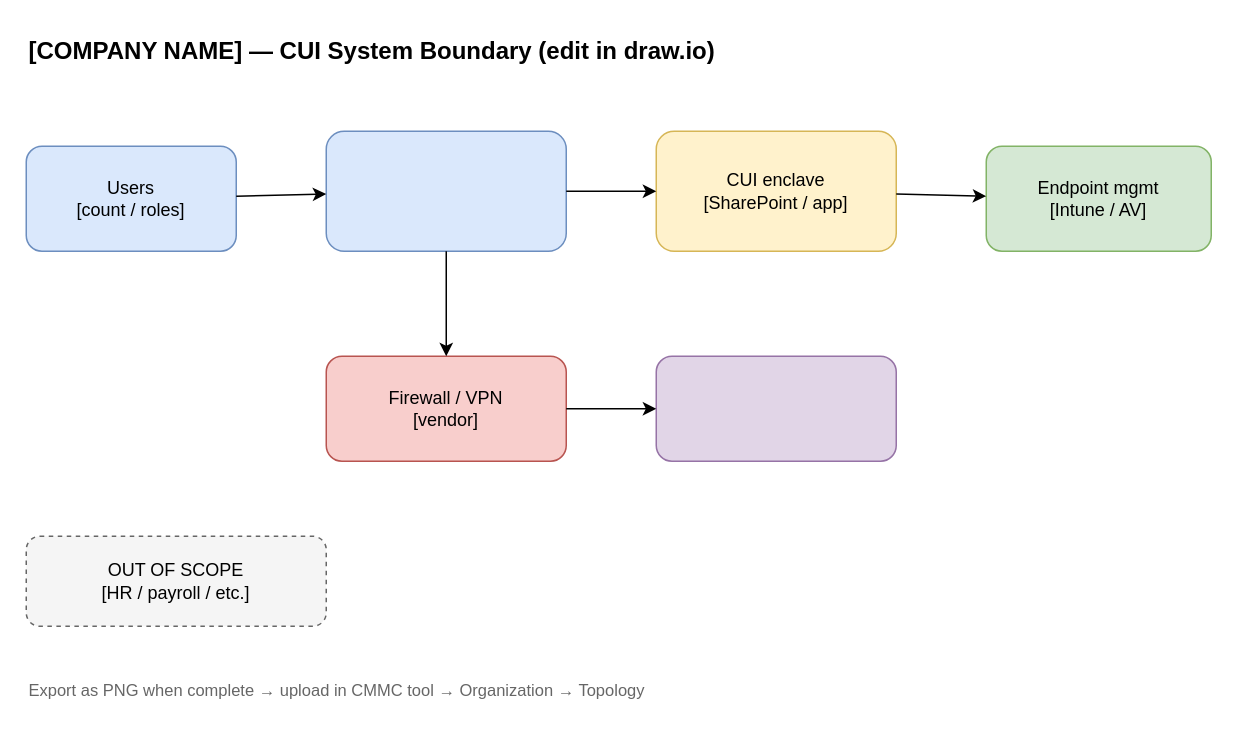
Some shapes in this 1238 by 756 pixel diagram are drawn without their labels. The shapes that lost their labels are listed below. From the top down, each one's centre as x and y in pixels, then its label:
the point at 445,190: Identity / MFA [Entra ID / AD]
the point at 775,408: Logging / SIEM [retention period]
